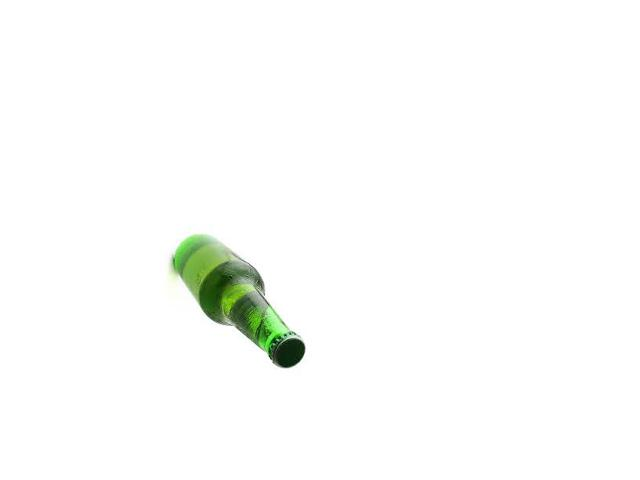beer: (172, 233, 304, 368)
